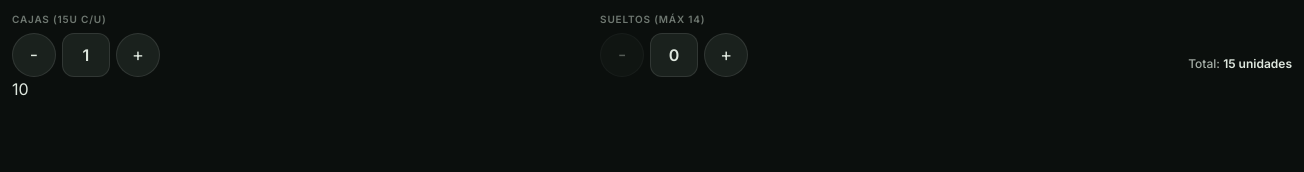
Test: QuantityStepper › edita cantidades con input numérico y valida al blur
Replace the text in the field named "cajas" with "3". click: (86, 55)
box: [62, 33, 110, 77]
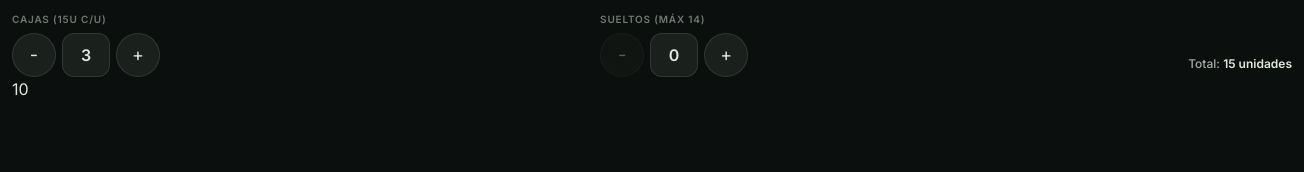
Leave the field named "cajas", box [62, 33, 110, 77]
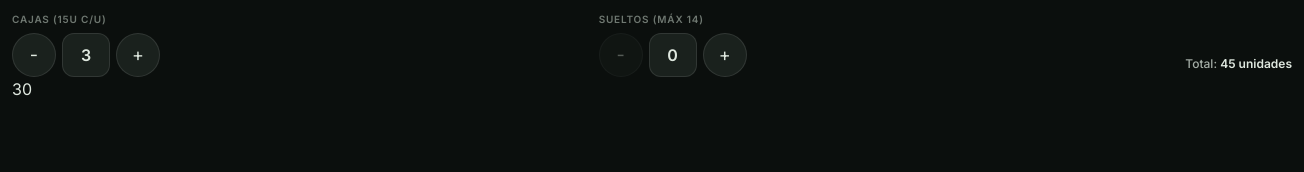
Now the text with test id "cajas" reads "3", box [12, 79, 22, 99]
Now the text "45 unidades" is shown, box [1220, 56, 1292, 71]
Replace the text in the field named "cajas" with "-4". click: (86, 55)
box: [62, 33, 110, 77]
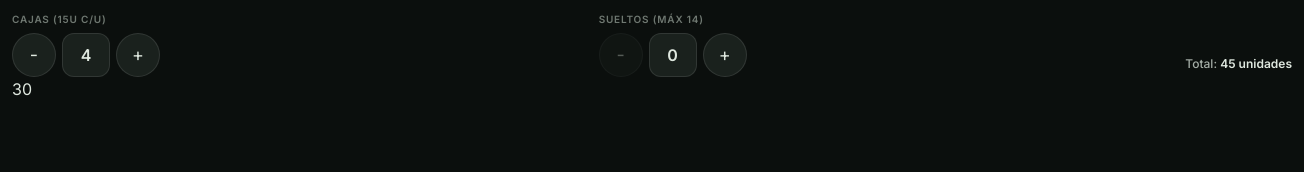
Leave the field named "cajas", box [62, 33, 110, 77]
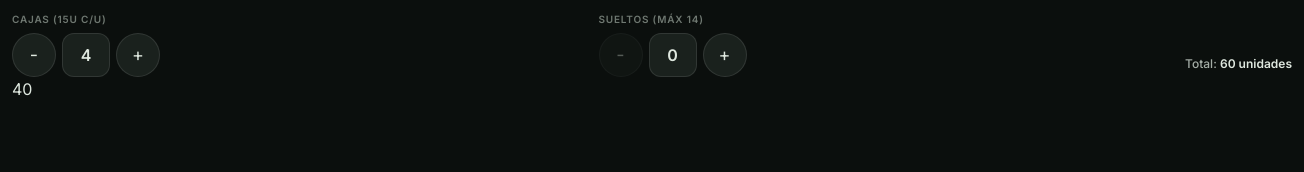
Now the field named "cajas" holds "4", box [62, 33, 110, 77]
Now the text with test id "cajas" reads "4", box [12, 79, 22, 99]
